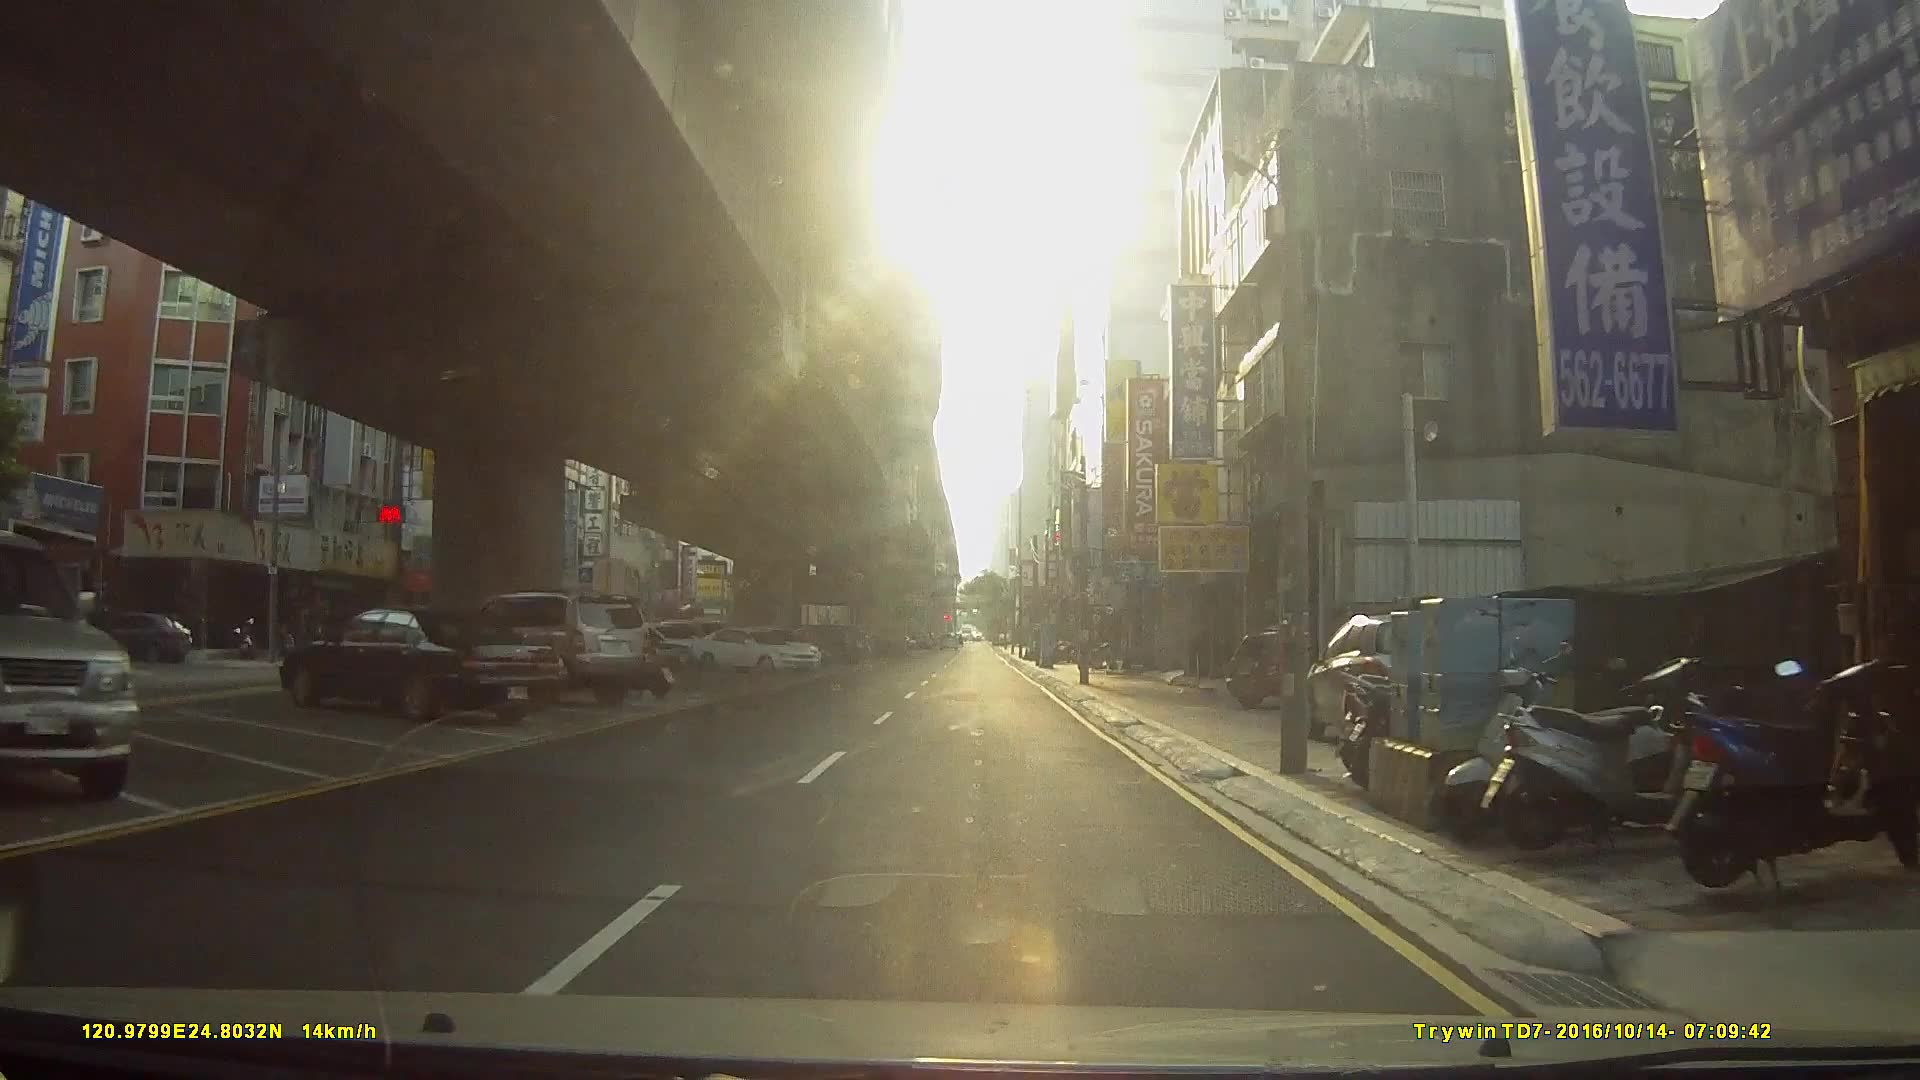vehicle: (0, 531, 136, 804), (276, 604, 566, 725), (456, 589, 650, 707), (1225, 620, 1354, 709), (687, 625, 824, 676), (84, 609, 193, 663)
